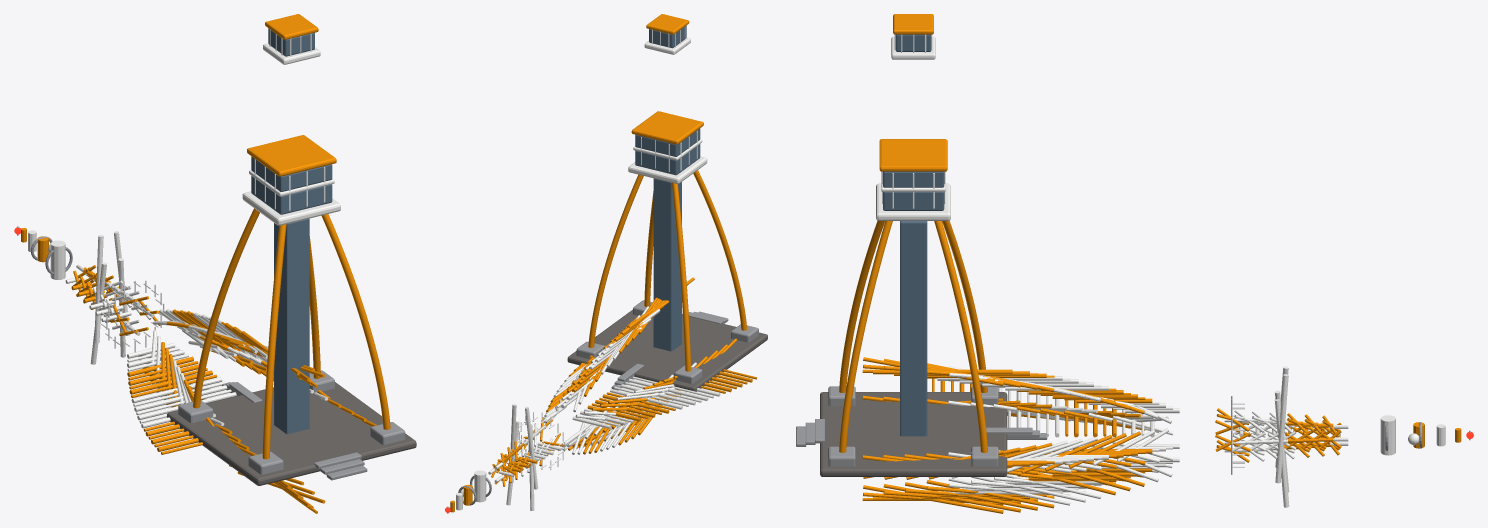
The model's file is tokyo_tower.glb.
3 views of the same model, side by side, from view 1: azimuth 30°, elevation 25°; view 2: azimuth 150°, elevation 25°; view 3: azimuth 270°, elevation 25° (orthographic). The views are drawn at different scales.
Visible parts, largest first — view 1: Base, ElevCore, Deck1Roof, Leg.001, Leg.003, Leg, Deck1GlassLo, Deck1GlassHi, Deck1Slab, Leg.002, Deck2Roof, Deck2Glass (+6 smaller); view 2: Base, ElevCore, Deck1Roof, Leg, Leg.002, Leg.001, Deck1GlassLo, Deck1GlassHi, Deck1Slab, Leg.003, Deck2Roof, Deck2Glass (+1 smaller); view 3: Base, ElevCore, Deck1Roof, Leg.002, Leg.003, Leg.001, Leg, Deck1GlassLo, Deck1Slab, Deck1GlassHi, Deck2Roof.
Boxes of the visible parts, box(x1,y1,x2,y2) form: Base: box(167, 382, 416, 485); ElevCore: box(274, 218, 309, 434); Deck1Roof: box(247, 135, 336, 176); Leg.001: box(262, 224, 286, 459); Leg.003: box(321, 214, 390, 429); Leg: box(193, 208, 259, 408); Deck1GlassLo: box(251, 176, 332, 214); Deck1GlassHi: box(251, 156, 332, 191); Deck1Slab: box(242, 191, 340, 225); Leg.002: box(309, 236, 320, 378); Deck2Roof: box(265, 14, 318, 39); Deck2Glass: box(268, 28, 314, 56); Base: box(567, 309, 767, 391); ElevCore: box(653, 178, 681, 351); Deck1Roof: box(631, 111, 703, 144); Leg: box(672, 183, 691, 371); Leg.002: box(588, 174, 643, 347); Leg.001: box(693, 170, 746, 330); Deck1GlassLo: box(635, 144, 700, 175); Deck1GlassHi: box(635, 128, 700, 156); Deck1Slab: box(628, 156, 707, 183); Leg.003: box(644, 191, 653, 306); Deck2Roof: box(646, 14, 689, 34); Deck2Glass: box(649, 25, 686, 48); Base: box(820, 392, 1007, 476); ElevCore: box(900, 221, 927, 436); Deck1Roof: box(879, 139, 947, 171); Leg.002: box(934, 221, 987, 452); Leg.003: box(839, 221, 892, 452); Leg.001: box(839, 221, 885, 392); Leg: box(942, 221, 987, 392); Deck1GlassLo: box(883, 192, 944, 210); Deck1Slab: box(876, 183, 950, 220); Deck1GlassHi: box(883, 171, 944, 187); Deck2Roof: box(893, 14, 933, 34).
Size of the model in its own units: 13.8 by 31.61 by 39.82.
